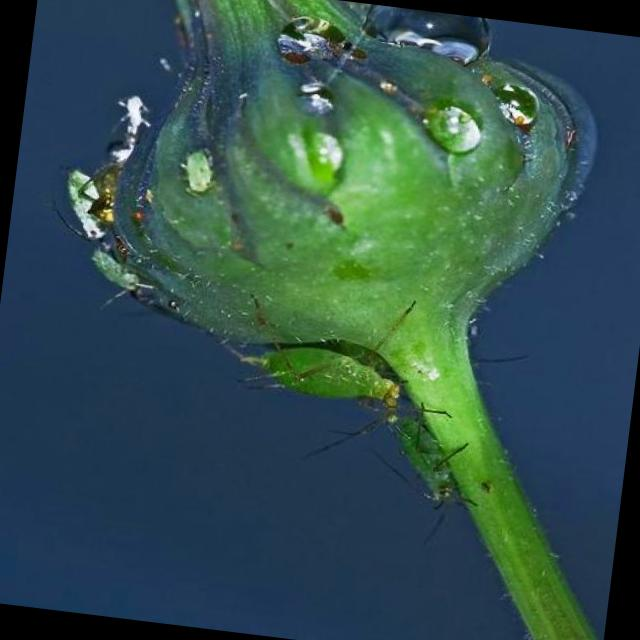aphid: (241, 322, 417, 428), (373, 416, 475, 518), (49, 170, 113, 246), (75, 243, 161, 295)
